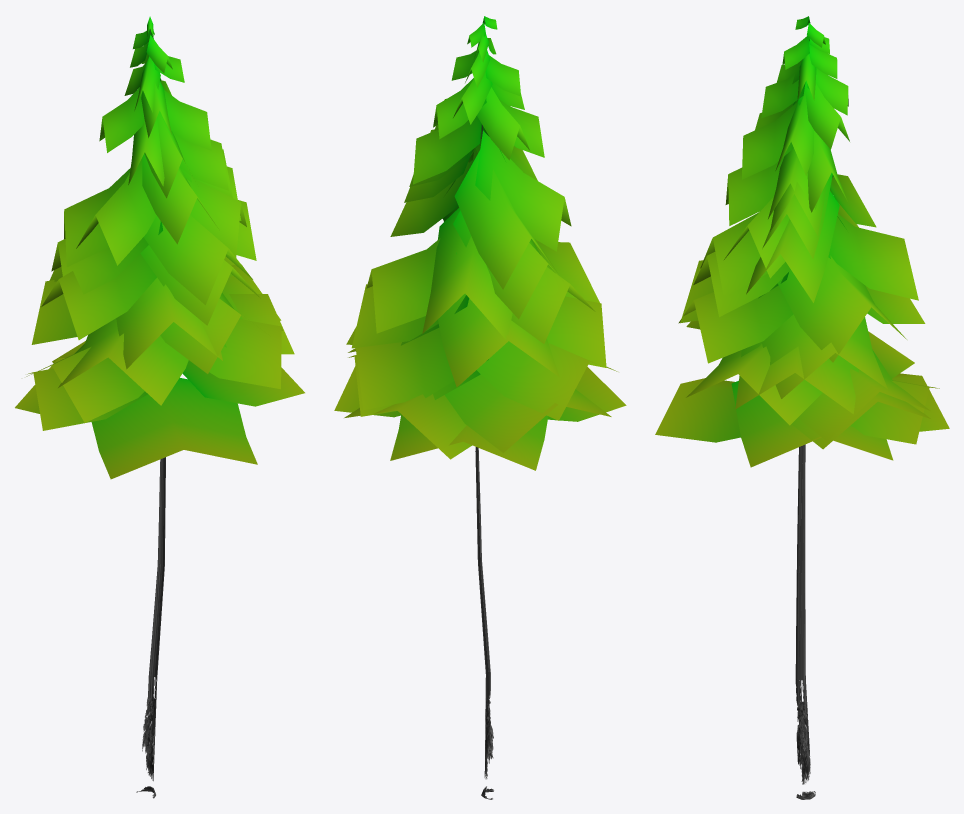
Rendered from tree 5.fbx.
3 renders of one model, left to right at view 1: azimuth 30°, elevation 25°; view 2: azimuth 150°, elevation 25°; view 3: azimuth 270°, elevation 25°, orthographic.
Parts seen in each view (by area): view 1: Tree_LOD0; view 2: Tree_LOD0; view 3: Tree_LOD0.
Boxes of the visible parts, left/top/right/bottom form: Tree_LOD0: left=15, top=16, right=304, bottom=798; Tree_LOD0: left=334, top=16, right=626, bottom=799; Tree_LOD0: left=655, top=16, right=949, bottom=799.
Size of what is drawn, in the model's own units: 1018 by 3069 by 1045.
